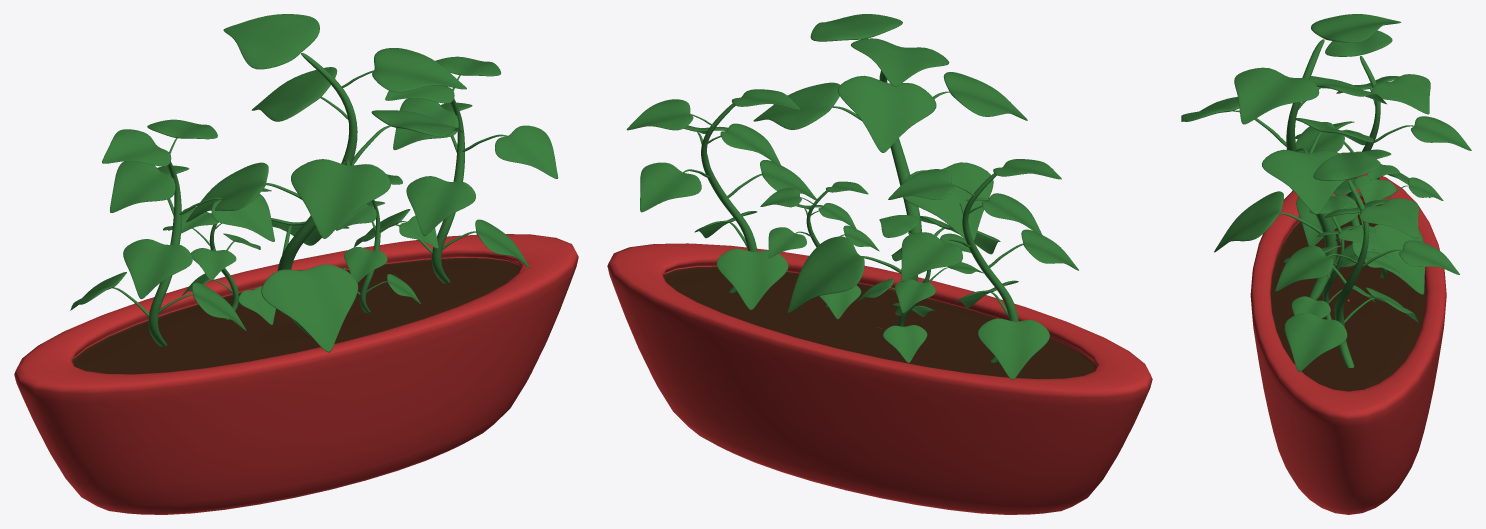
Rendered from LowlongPottedPlant.fbx.
3 views of the same model, side by side, from view 1: azimuth 30°, elevation 25°; view 2: azimuth 150°, elevation 25°; view 3: azimuth 270°, elevation 25° (orthographic). The views are drawn at different scales.
Parts seen in each view (by area): view 1: group20_pasted__nurbsToPoly1; view 2: group20_pasted__nurbsToPoly1; view 3: group20_pasted__nurbsToPoly1.
Part boxes in pixels (x1,y1,x2,y2): group20_pasted__nurbsToPoly1: (14,14,578,514); group20_pasted__nurbsToPoly1: (607,14,1152,514); group20_pasted__nurbsToPoly1: (1181,14,1471,514).
Bounding box in the file's own units: 24.43 × 18.5 × 12.07.
